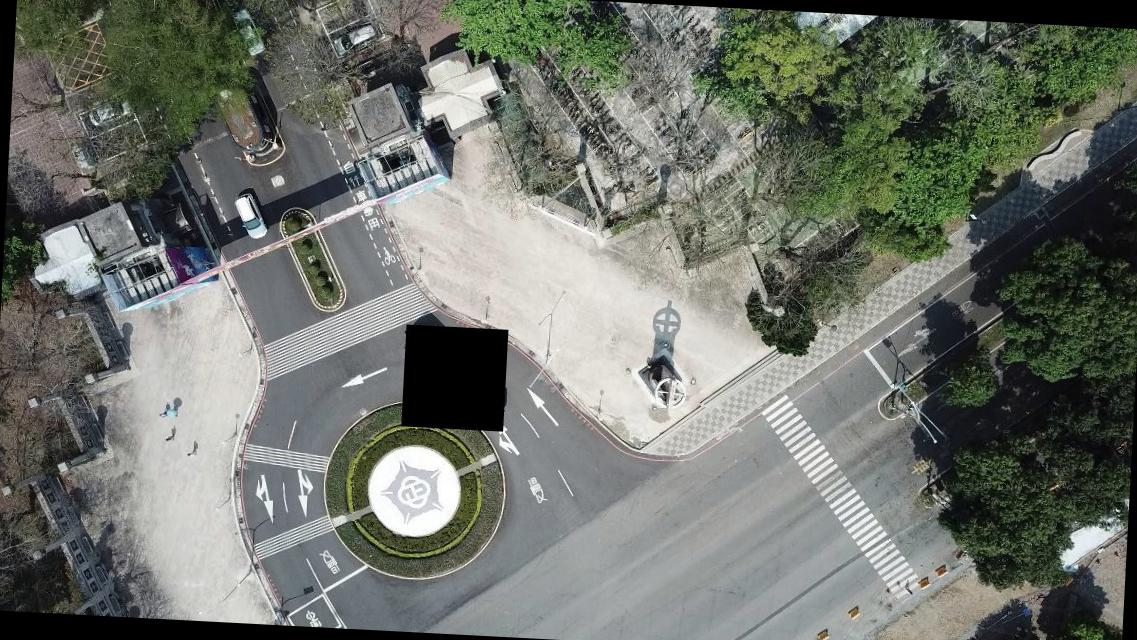vehicle: (228, 8, 268, 57), (332, 22, 382, 58), (233, 191, 269, 240), (90, 95, 135, 128)
